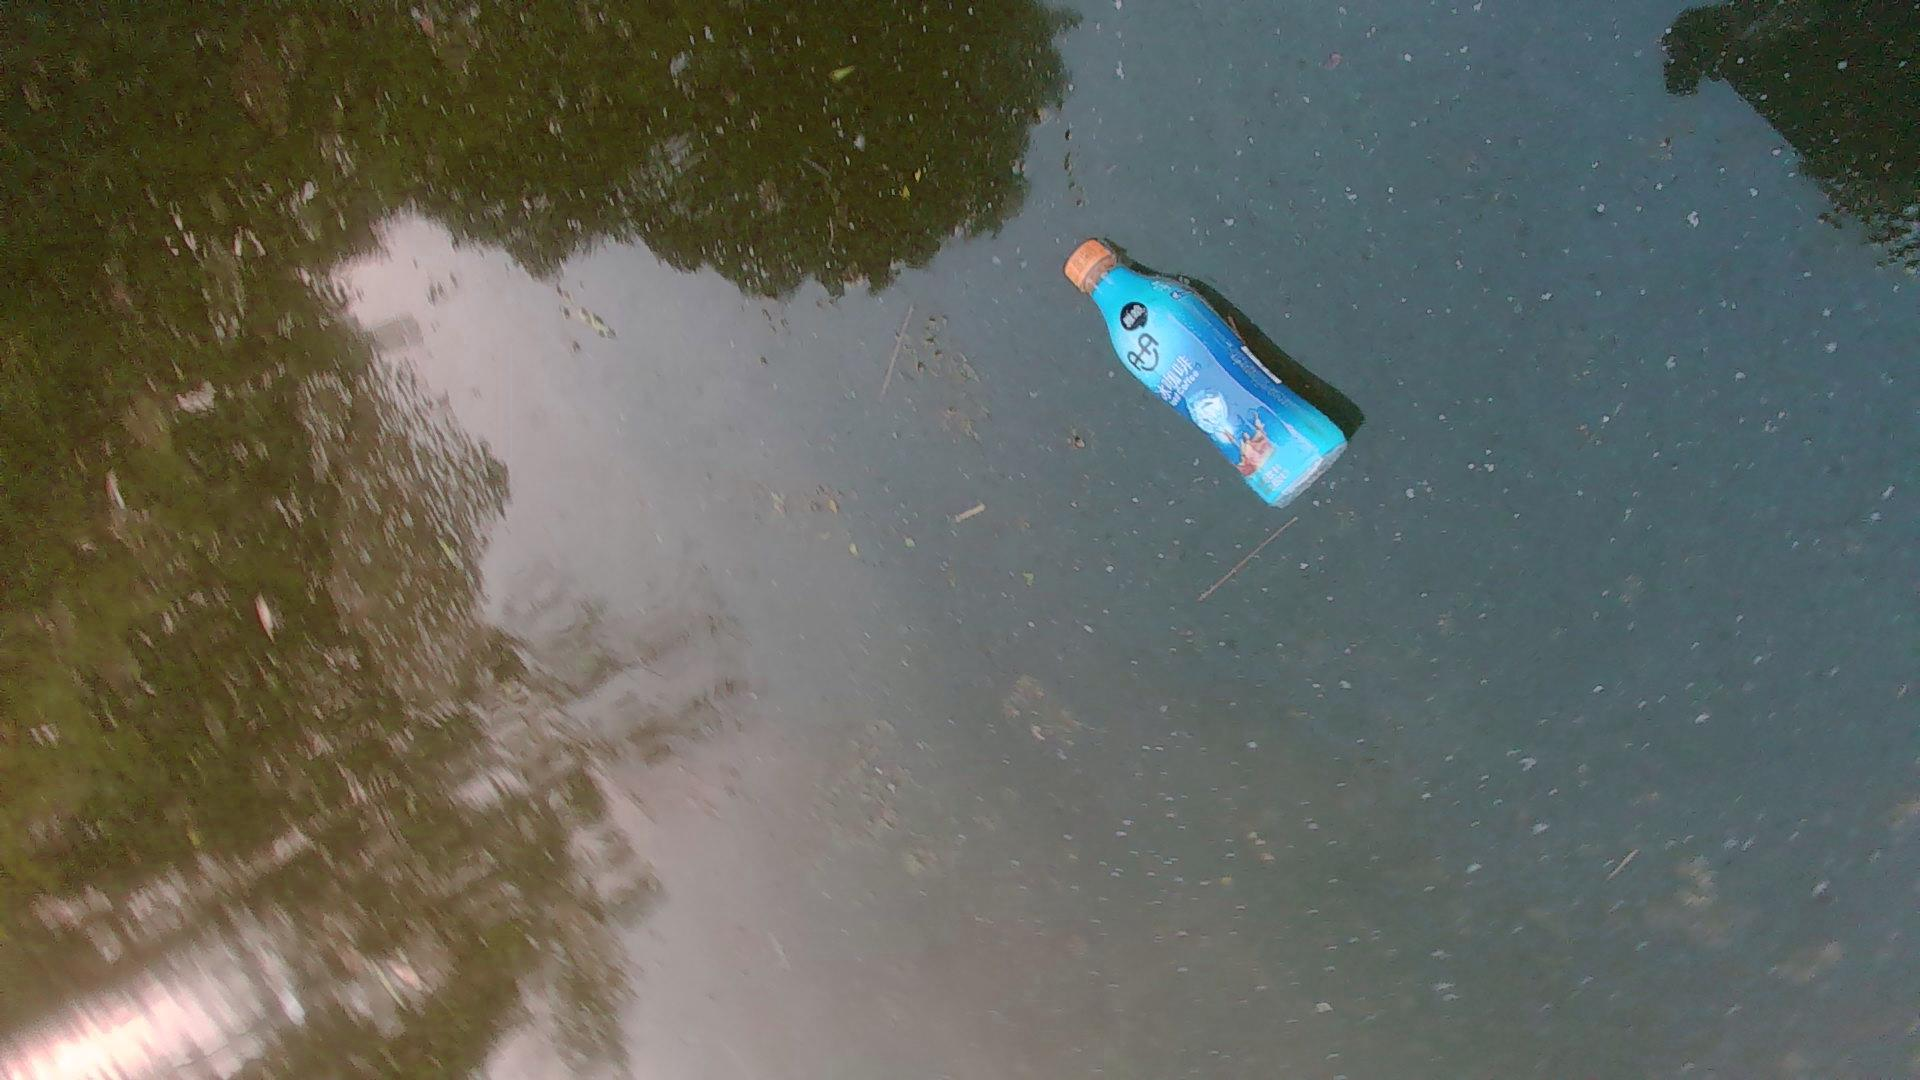Plastic: (1062, 235, 1361, 518)
